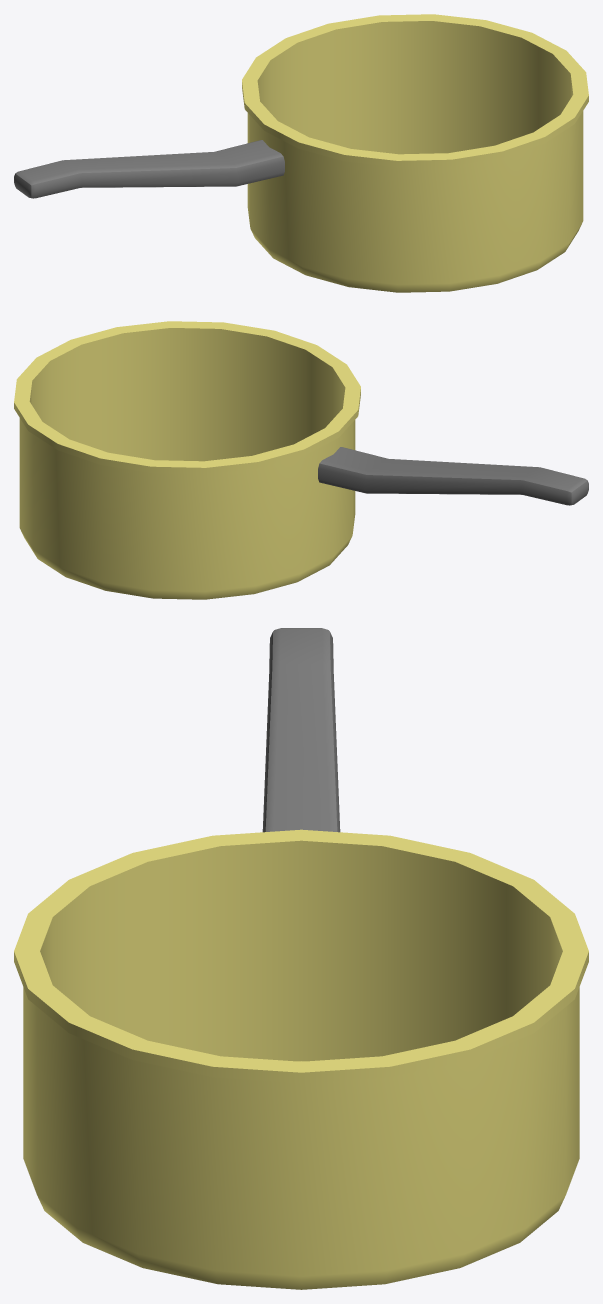
File: Casserole.fbx
3 renders of one model, top to bottom at view 1: azimuth 30°, elevation 25°; view 2: azimuth 150°, elevation 25°; view 3: azimuth 270°, elevation 25°, orthographic. The views are drawn at different scales.
Parts seen in each view (by area): view 1: polySurface3; view 2: polySurface3; view 3: polySurface3.
Boxes of the visible parts, bbox=[...] form: polySurface3: bbox=[14, 14, 588, 292]; polySurface3: bbox=[14, 321, 588, 599]; polySurface3: bbox=[14, 628, 588, 1289].
Bounding box in the file's own units: 3.73 × 0.9603 × 2.07.
